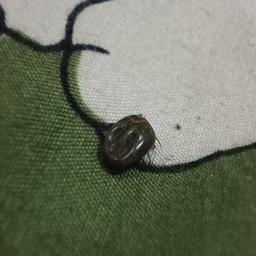Rhipicephalus sanguineus: (100, 113, 162, 170)
